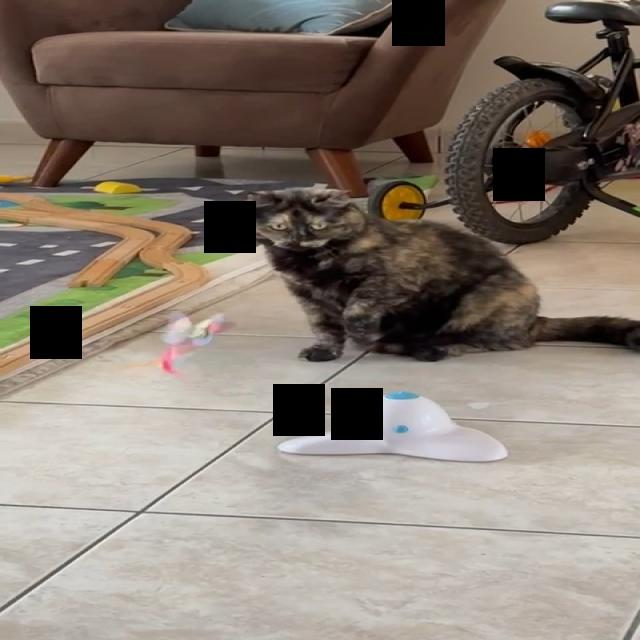authorized: (237, 186, 639, 363)
